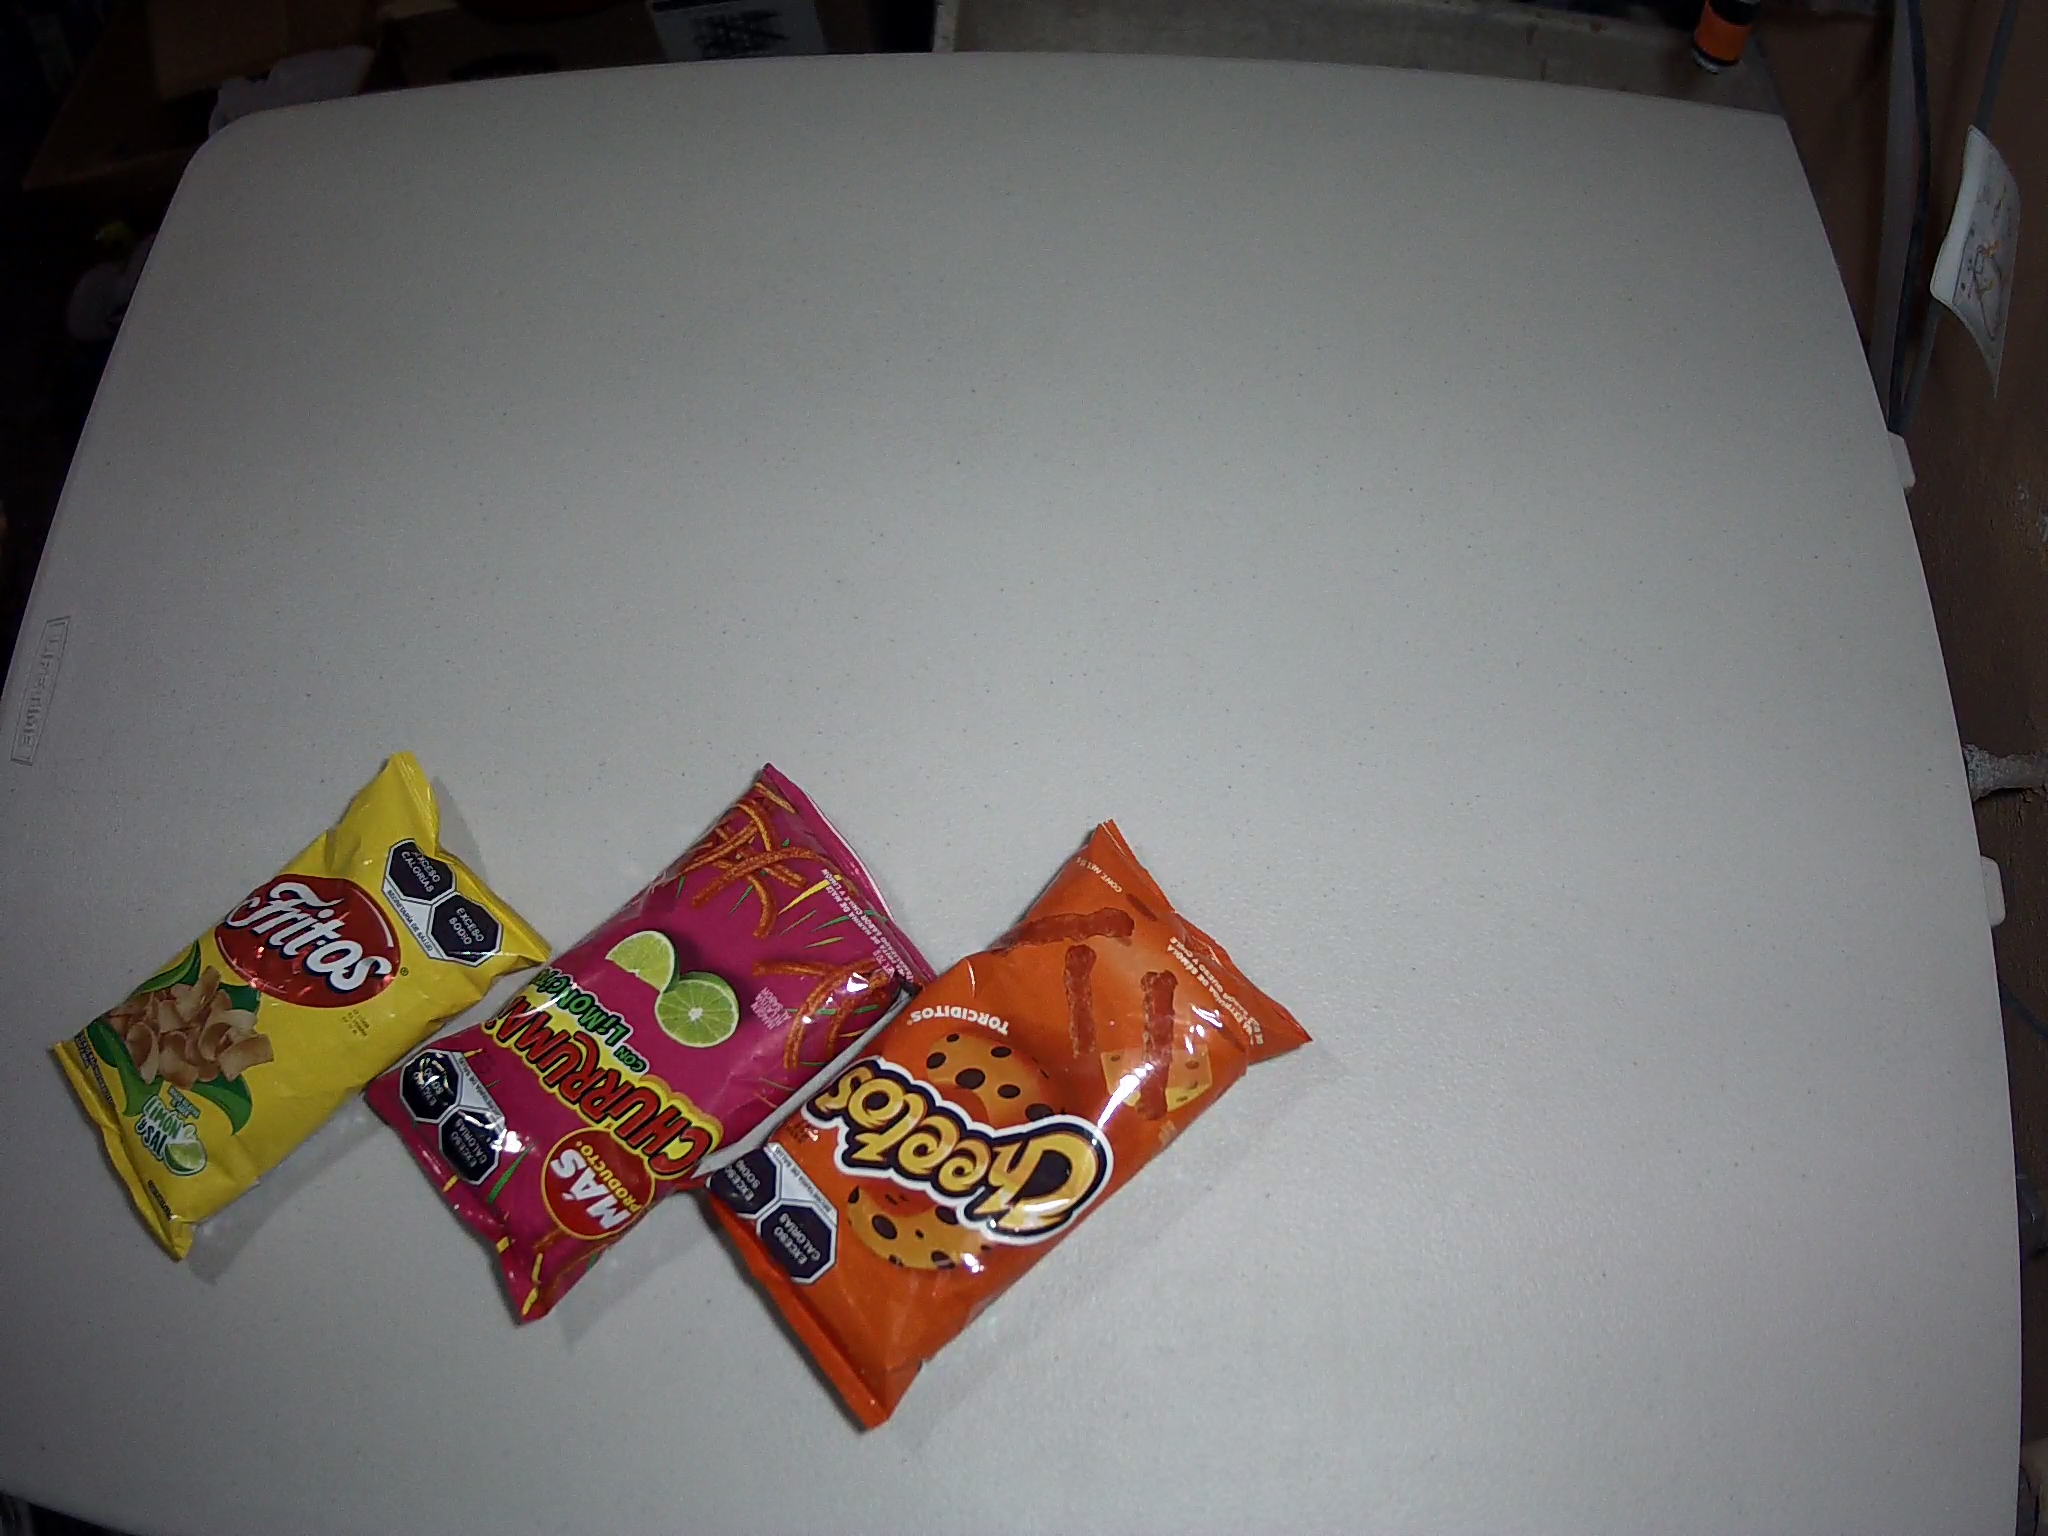CheetosTorciditos_55_F: (681, 820, 1313, 1431)
Churrumais_70_F: (356, 763, 945, 1325)
FritosSalLimon_65_F: (52, 747, 555, 1263)
